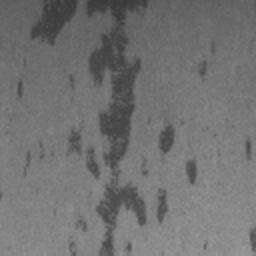Red iron sheet: (29, 0, 187, 256), (20, 140, 46, 177), (198, 41, 216, 77), (184, 160, 198, 184), (244, 141, 252, 160), (250, 228, 256, 252), (17, 81, 24, 99), (22, 58, 27, 70)
